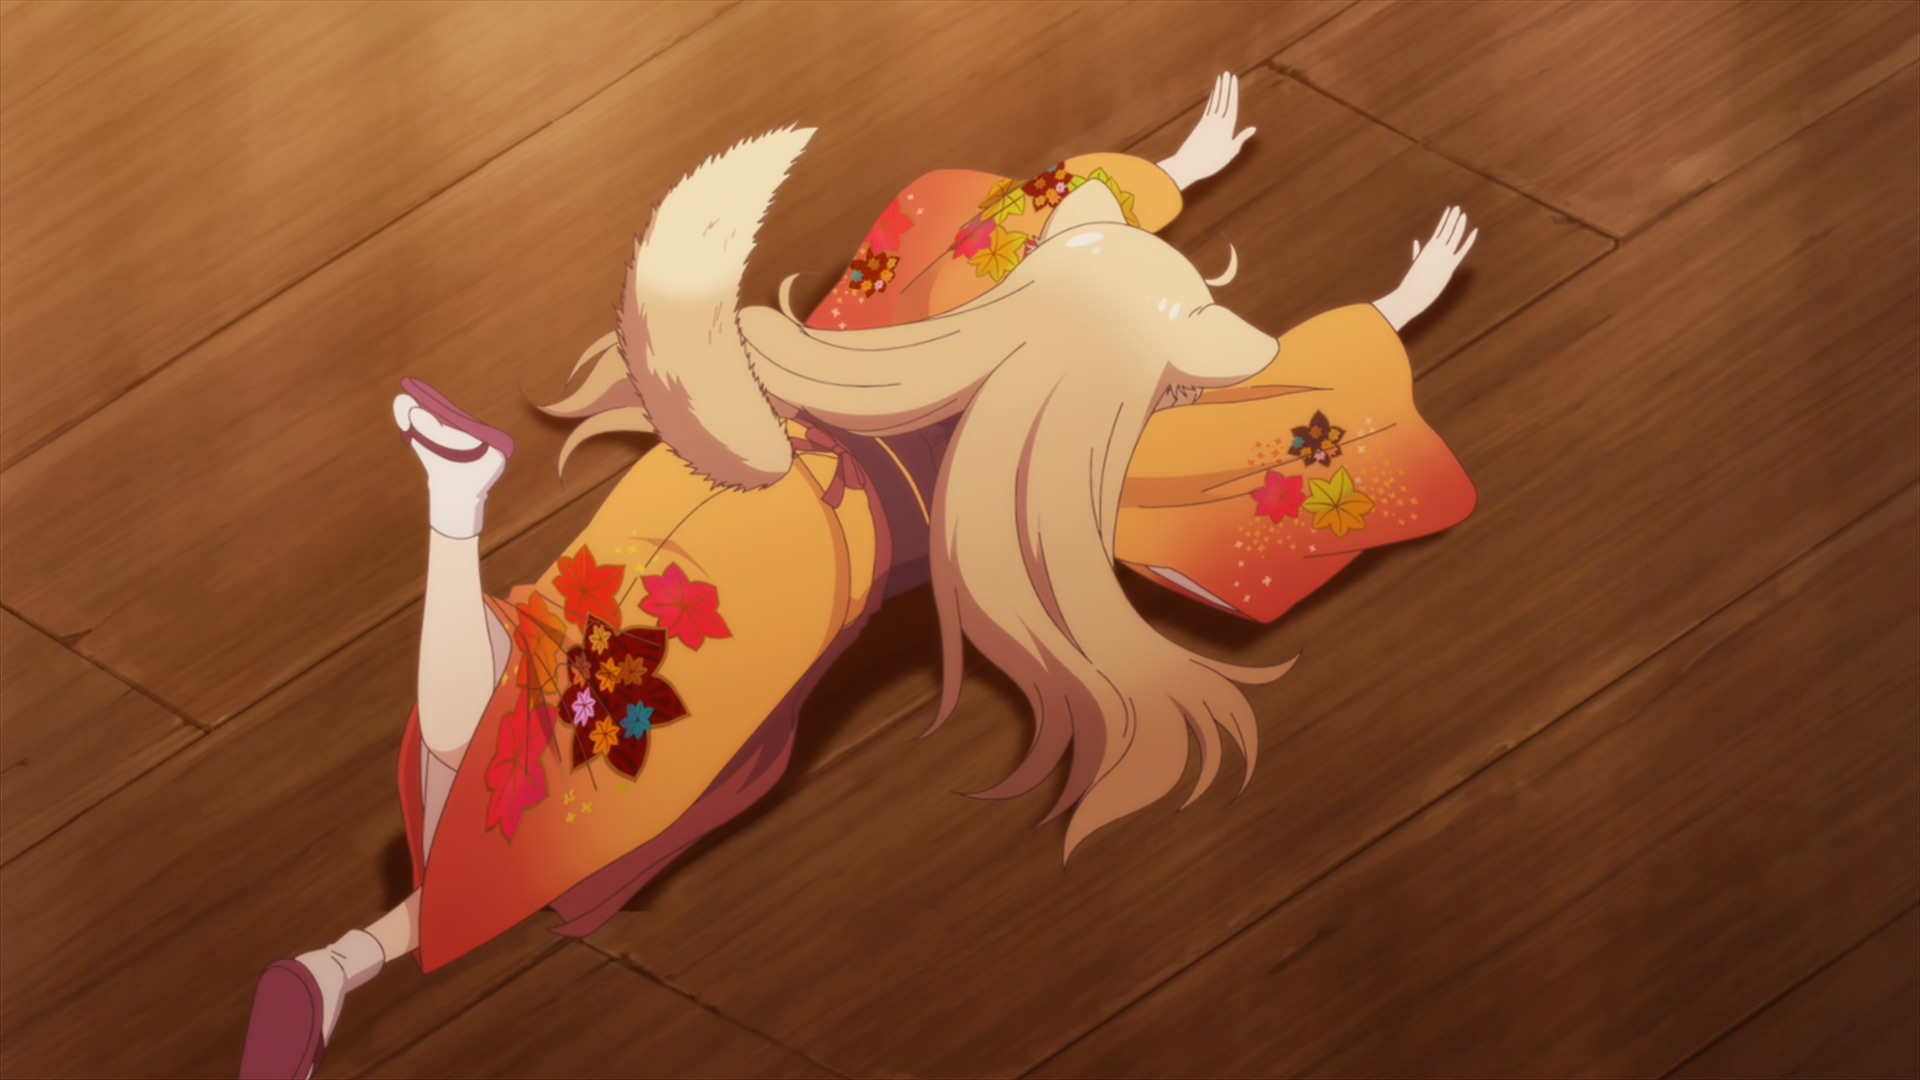柚: (237, 71, 1476, 1080)
